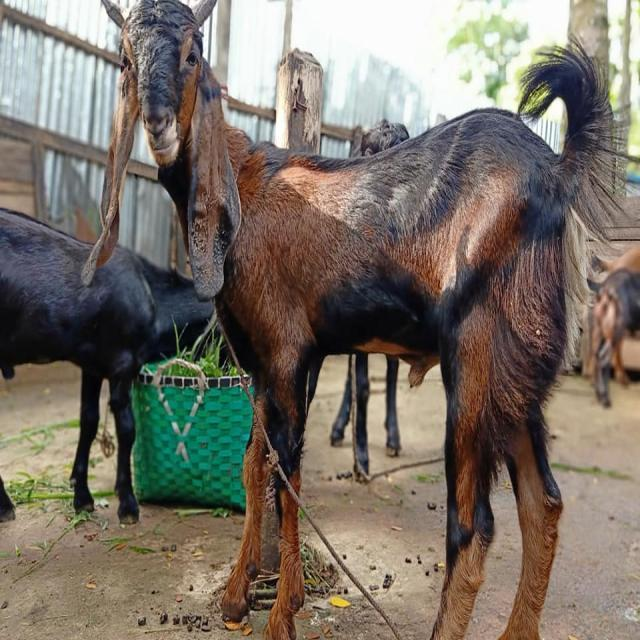Goat: (95, 1, 632, 638), (0, 205, 216, 526), (328, 117, 439, 482)
